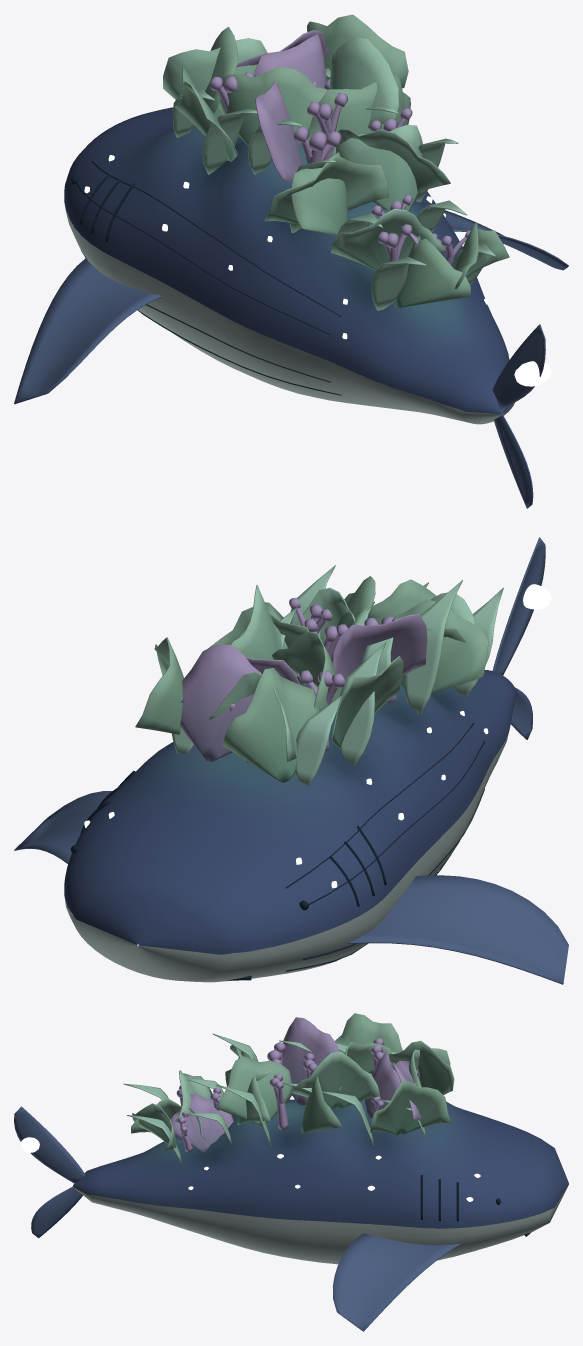
The picture shows the model from 3 angles, top to bottom: view 1: azimuth 30°, elevation 25°; view 2: azimuth 150°, elevation 25°; view 3: azimuth 270°, elevation 25°; orthographic projection. The views are drawn at different scales.
Visible parts, largest first — view 1: RIMWARD_HULL, RIMWARD_ENGINE_GLOW; view 2: RIMWARD_HULL, RIMWARD_ENGINE_GLOW; view 3: RIMWARD_HULL.
Part boxes in pixels (x1=…): RIMWARD_HULL: x1=14, y1=14, x2=568, y2=508; RIMWARD_ENGINE_GLOW: x1=514, y1=361, x2=551, y2=386; RIMWARD_HULL: x1=14, y1=537, x2=568, y2=984; RIMWARD_ENGINE_GLOW: x1=514, y1=584, x2=551, y2=609; RIMWARD_HULL: x1=14, y1=1013, x2=568, y2=1331.
Size of the model in its own units: 66.23 by 36.84 by 85.
